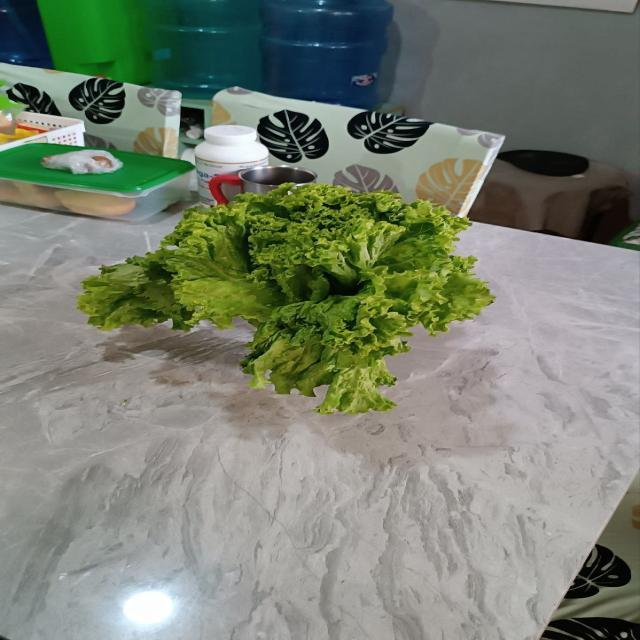Lettuce-Ready-to-Harvest: (77, 180, 498, 416)
